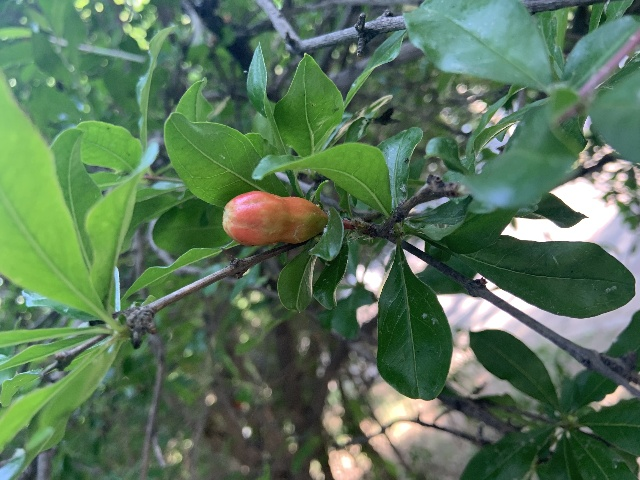bud: (222, 190, 327, 246)
